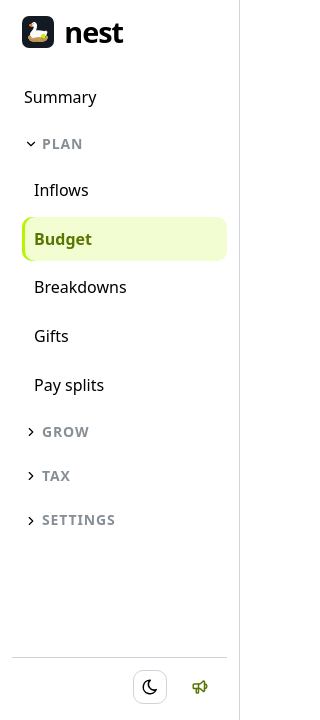
it: TabBar › marks a collapsed group that still holds the current route
Click the button "Plan" at (120, 144), box x1=12 y1=124 x2=227 y2=164
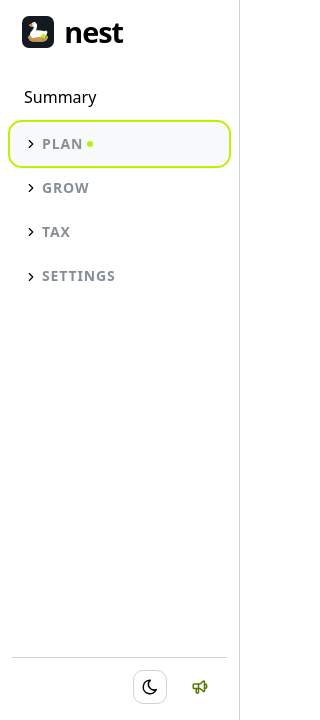
Now the button "Plan" is collapsed, box x1=12 y1=124 x2=227 y2=164
Now the element with class "drawer-nav__group-dot" is shown, box x1=87 y1=141 x2=93 y2=147
